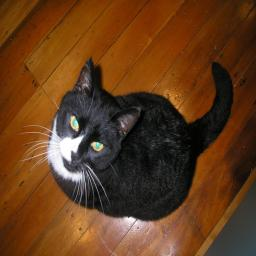catnose: (68, 149, 82, 164)
